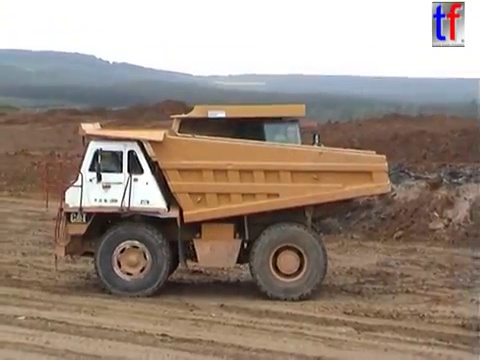truck: (42, 119, 393, 302), (114, 100, 324, 246)
